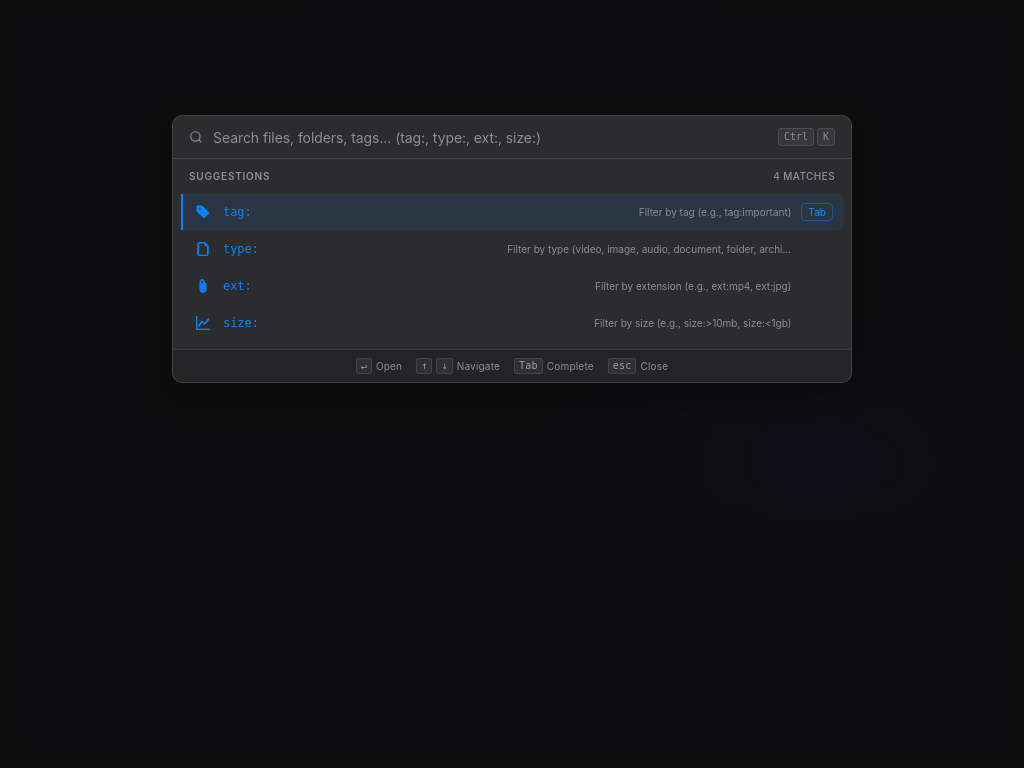
Test case: SpotlightSearch › Operator Selection › should insert operator into query when selected
Click the button "tag:".
click(715, 212)  # box [181,194,843,230]
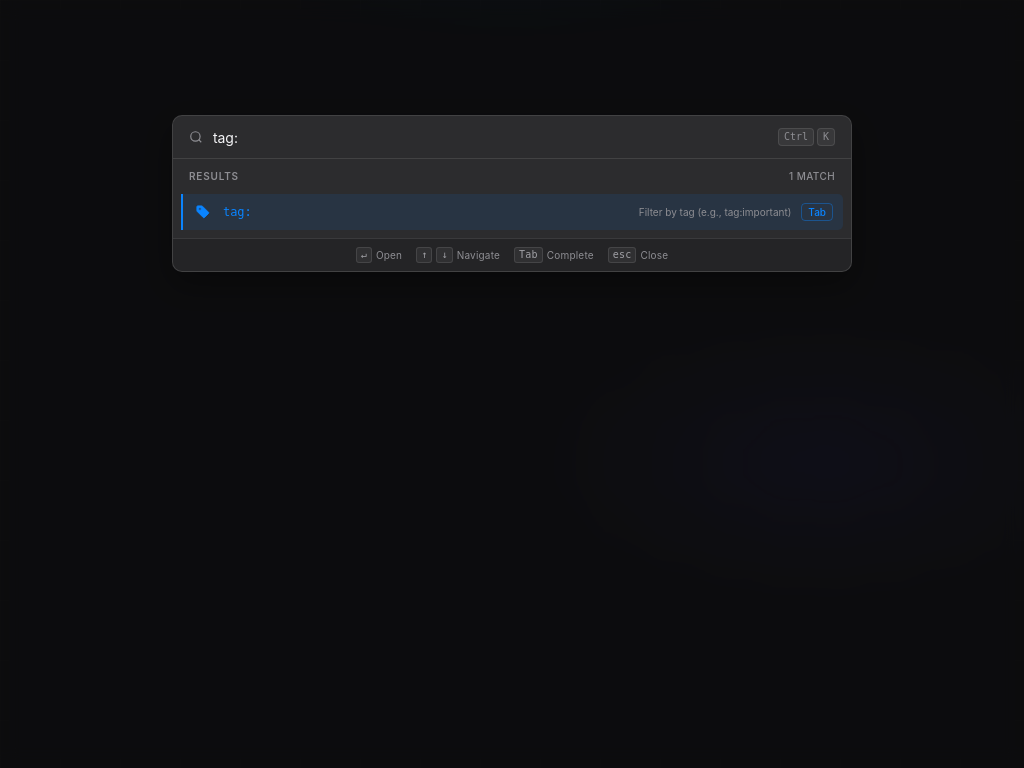
Now the field with placeholder "Search files, folders, tags... (tag:, type:, ext:, size:)" holds "tag:", box [213,129,768,146]
